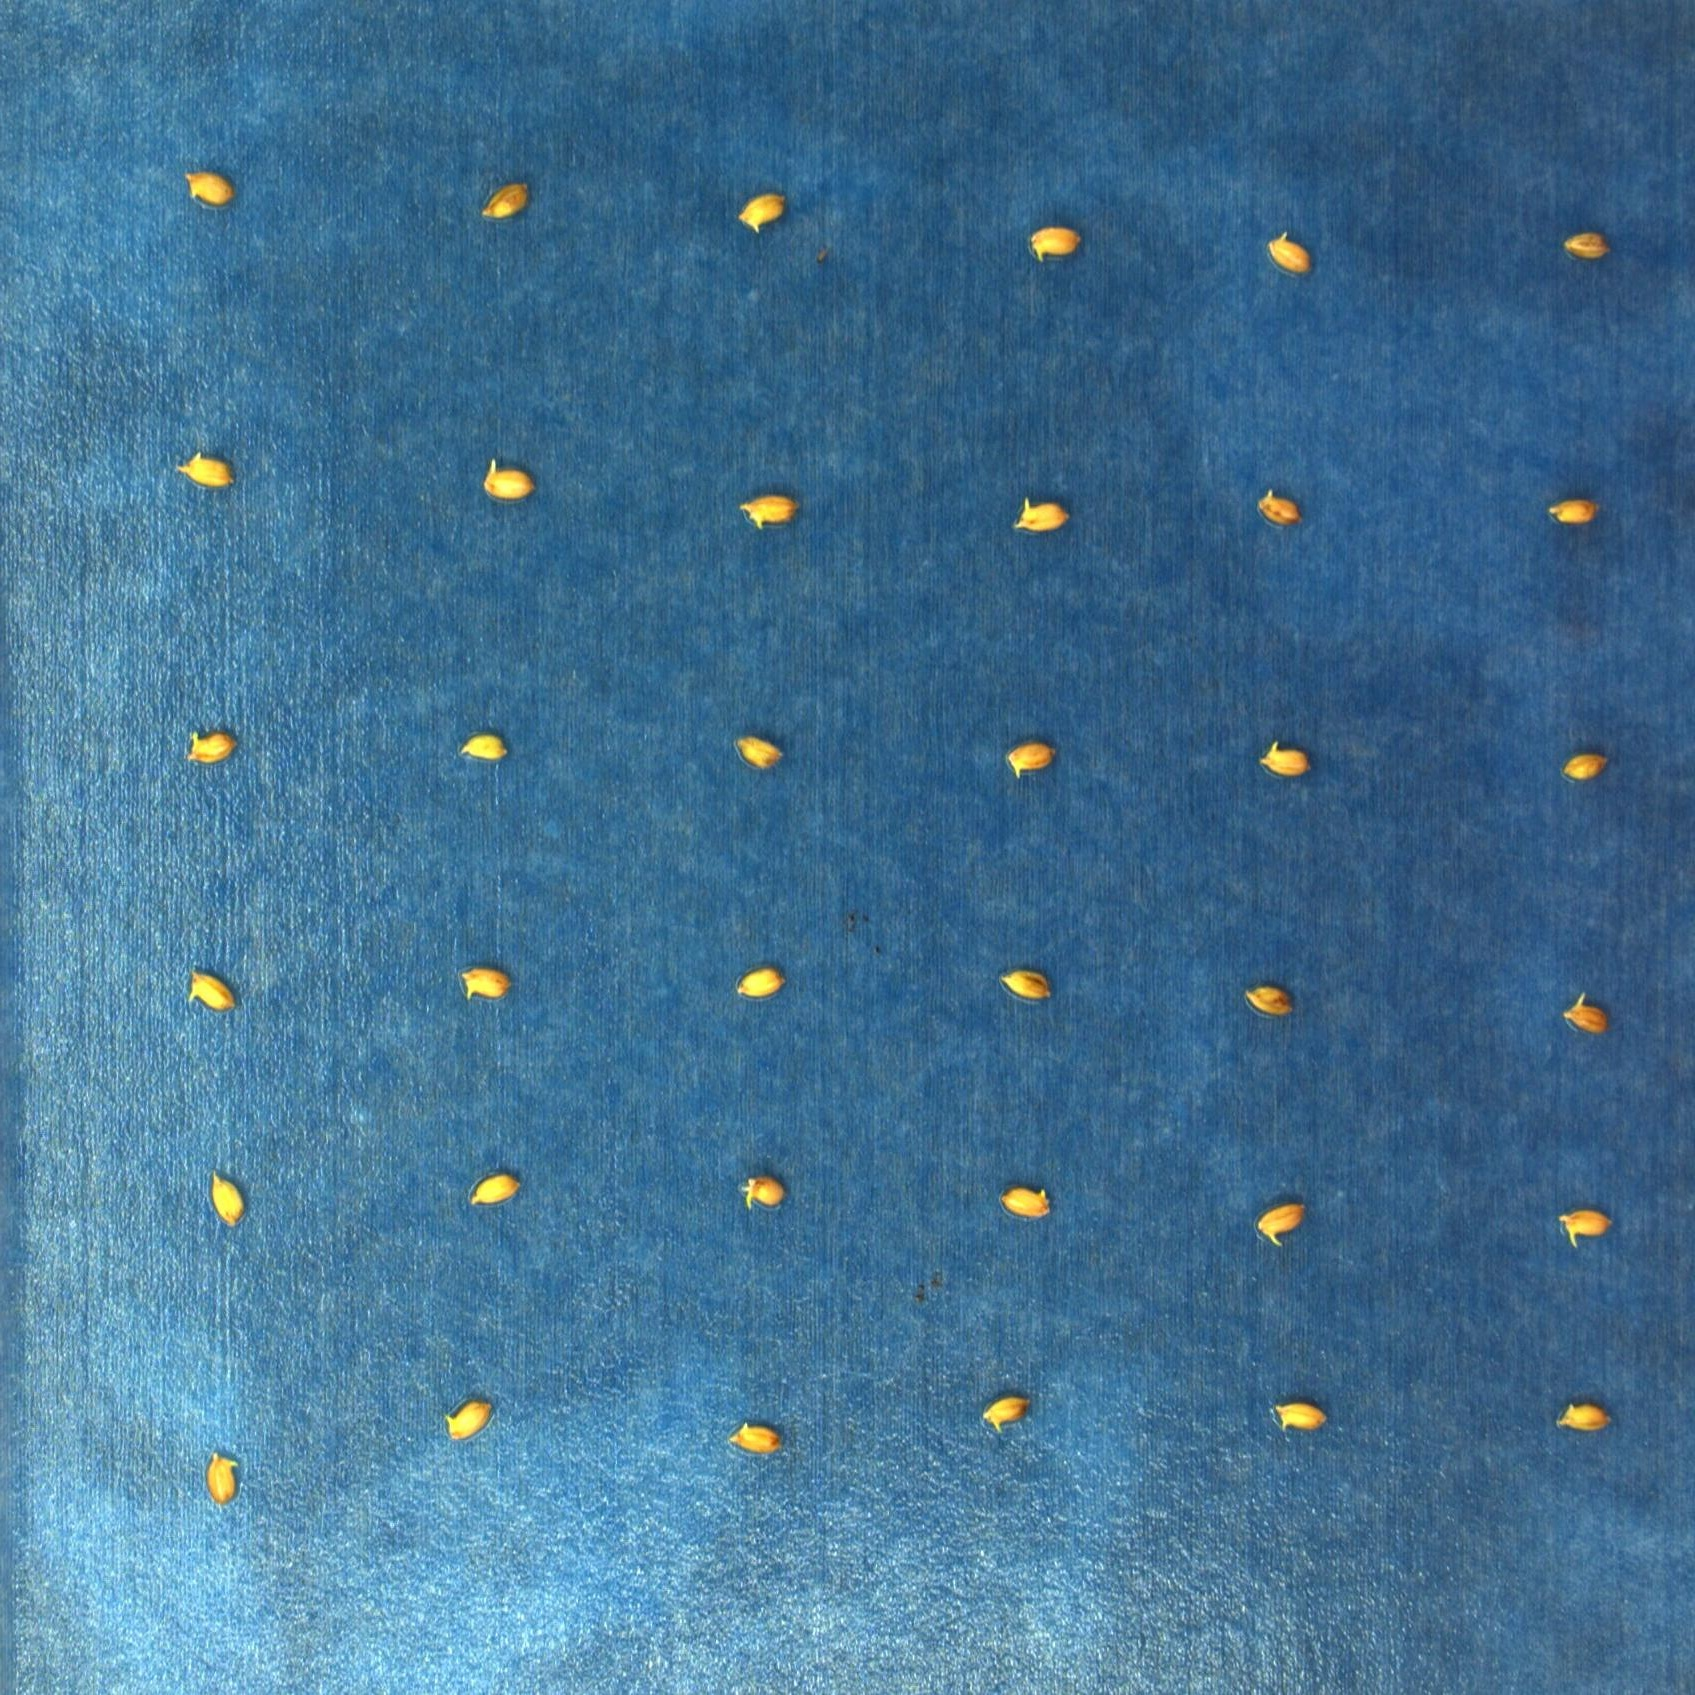not sprout: (484, 456, 539, 501), (1254, 1201, 1309, 1246), (442, 1399, 494, 1444), (740, 494, 801, 531), (185, 970, 239, 1010), (1558, 1211, 1613, 1251), (1031, 227, 1087, 265), (1012, 498, 1073, 534), (1563, 993, 1613, 1037), (208, 1167, 245, 1225), (467, 1170, 525, 1208), (478, 182, 531, 220), (186, 728, 241, 765), (739, 192, 790, 231), (1273, 1400, 1330, 1434), (179, 453, 234, 487), (1259, 744, 1315, 778), (1001, 1184, 1052, 1222), (461, 965, 514, 1001), (1268, 231, 1315, 272), (986, 1395, 1034, 1434), (1007, 744, 1062, 778), (1001, 970, 1055, 1004), (203, 1450, 237, 1503), (726, 1423, 784, 1454), (185, 168, 234, 203), (737, 737, 787, 771), (1259, 490, 1304, 528), (1246, 986, 1298, 1018), (1551, 497, 1603, 528), (744, 1173, 785, 1212), (1555, 1403, 1610, 1433), (737, 967, 789, 998), (1565, 228, 1613, 261), (1566, 753, 1613, 781), (459, 734, 508, 759)
